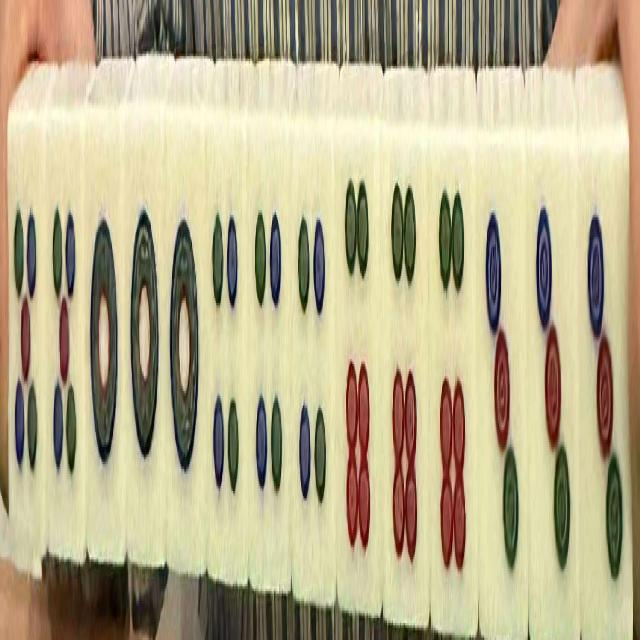t1: (86, 126, 126, 564), (128, 118, 166, 557), (167, 126, 205, 565)
t3: (582, 138, 629, 618), (478, 151, 525, 628), (530, 167, 576, 620)
t4: (248, 129, 290, 572), (204, 131, 246, 564), (293, 139, 333, 585)
t5: (48, 130, 85, 542), (10, 134, 44, 536)
t6: (434, 163, 476, 616), (336, 151, 379, 583), (385, 159, 425, 607)
